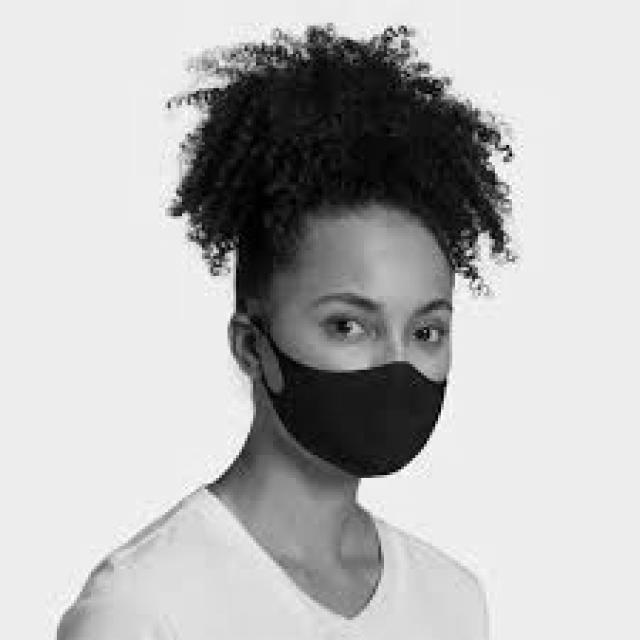fake: (252, 330, 466, 510)
real: (267, 210, 457, 486)
